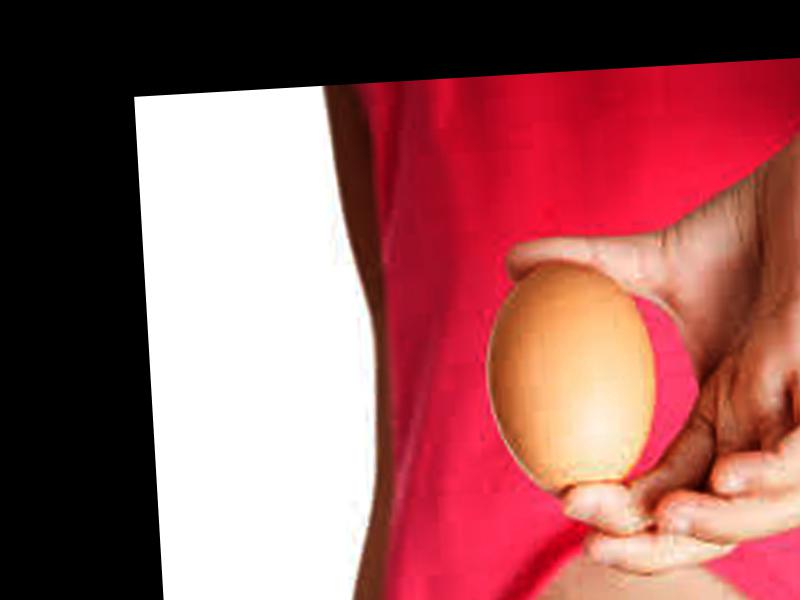Eggs: (482, 260, 662, 505)
